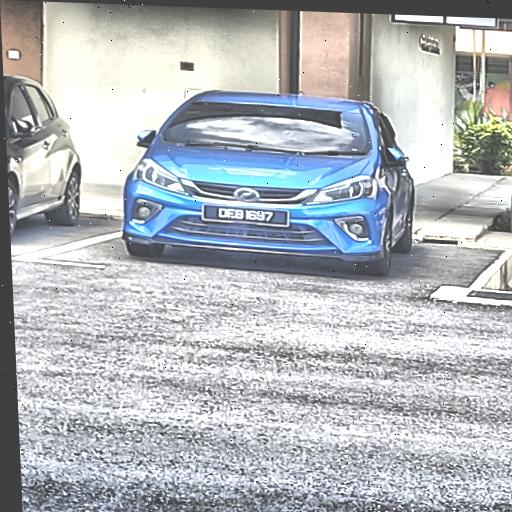license_plate: (200, 199, 289, 231)
